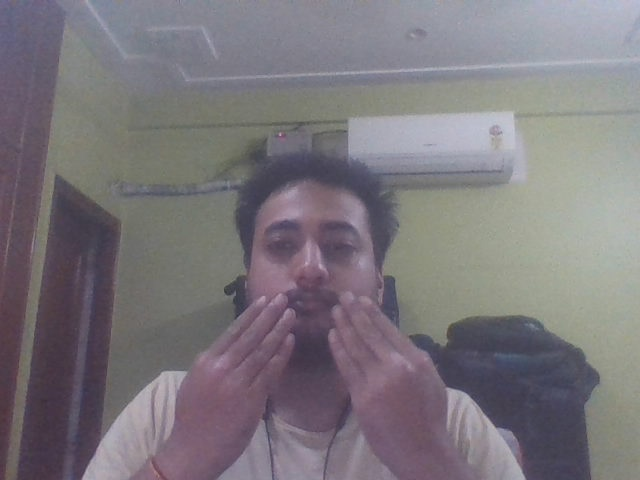Thanks: (132, 281, 505, 480)
